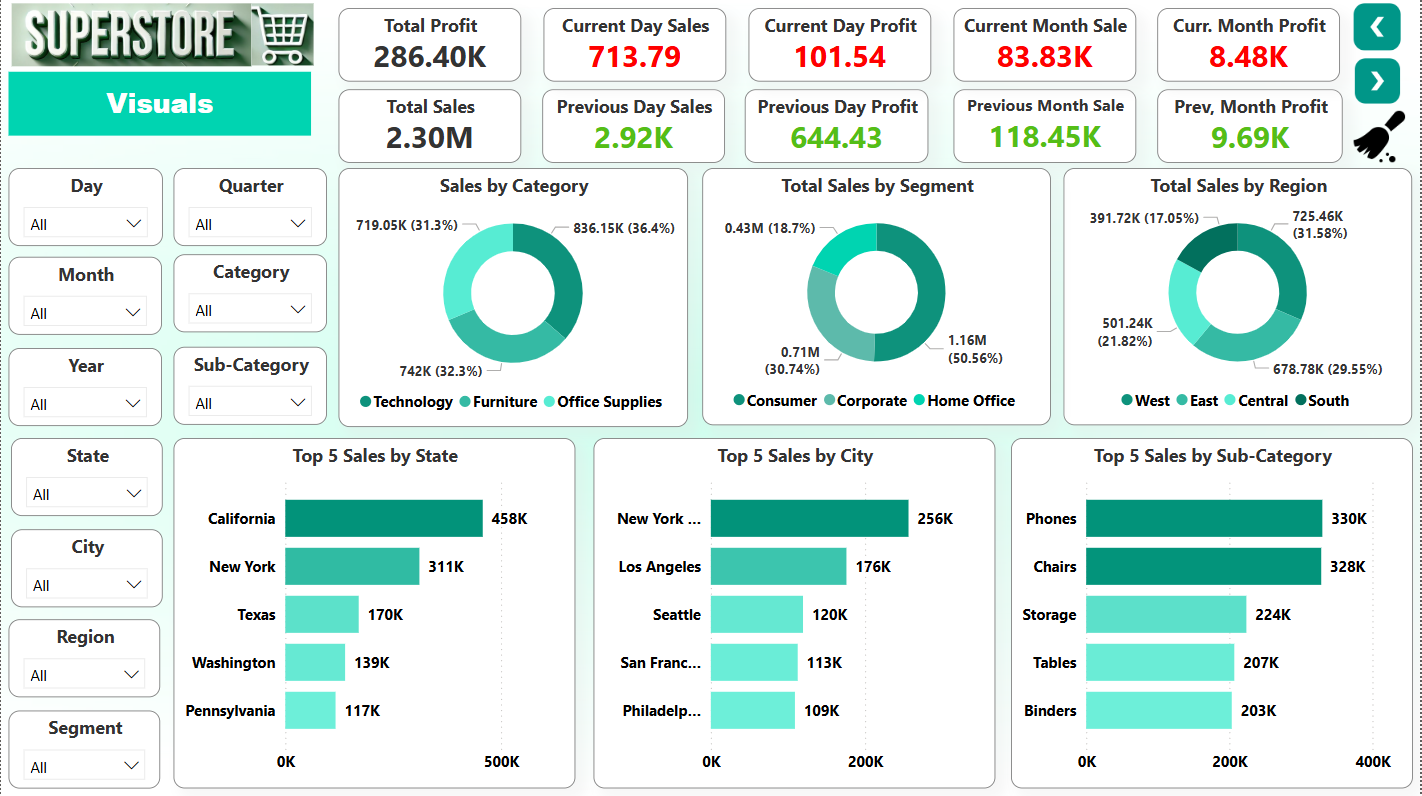

The dashboard page shown, as its layout file describes it:
{"tool":"powerbi","page":{"name":"Visuals","canvas":[1280,720],"ordinal":5},"visuals":[{"type":"textbox","box":[7.2,66.4,272.7,57.7],"z":0},{"type":"slicer","title":"Day","fields":{"Values":["Fiscal year Table.Date.Variation.Date Hierarchy.Day"]},"box":[7.2,152.9,139,70],"z":1000},{"type":"slicer","title":"Quarter","fields":{"Values":["Fiscal year Table.Quarter Number"]},"box":[155.8,152.9,138.5,70.7],"z":2000},{"type":"slicer","title":"Region","fields":{"Values":["Sample_ Superstore.Region"]},"box":[7.2,560.4,137.1,70.7],"z":3000},{"type":"slicer","title":"Segment","fields":{"Values":["Sample_ Superstore.Segment"]},"box":[7.2,642,137.1,70.7],"z":4000},{"type":"slicer","title":"City","fields":{"Values":["Sample_ Superstore.City"]},"box":[8.7,478.8,137.1,70.7],"z":5000},{"type":"slicer","title":"State","fields":{"Values":["Sample_ Superstore.State"]},"box":[8.7,397.1,137.1,70.7],"z":6000},{"type":"slicer","title":"Year","fields":{"Values":["Fiscal year Table.Fiscal Year"]},"box":[7.2,315.5,138.5,70.7],"z":7000},{"type":"slicer","title":"Month","fields":{"Values":["Fiscal year Table.Month Name"]},"box":[7.2,233.9,138.5,70.7],"z":8000},{"type":"slicer","title":"Sub-Category","fields":{"Values":["Sample_ Superstore.Sub-Category"]},"box":[155.8,314.5,138.5,70.7],"z":9000},{"type":"slicer","title":"Category","fields":{"Values":["Sample_ Superstore.Category"]},"box":[155.8,230.8,138.5,70.7],"z":10000},{"type":"card","title":"Total Profit","fields":{"Values":["Sample_ Superstore.Total Profit"]},"box":[304.4,8.7,164.5,66.4],"z":11000},{"type":"card","title":"Total Sales","fields":{"Values":["Sample_ Superstore.Total Sales"]},"box":[304.4,82.2,164.5,66.4],"z":12000},{"type":"card","title":"Previous Day Sales","fields":{"Values":["Sample_ Superstore.Previous Day Sales"]},"box":[487.7,82.2,164.5,66.4],"z":13000},{"type":"card","title":"Current Day Sales","fields":{"Values":["Sample_ Superstore.Current Date Sales"]},"box":[489.1,8.7,164.5,66.4],"z":14000},{"type":"card","title":"Previous Day Profit","fields":{"Values":["Sample_ Superstore.Previous Day Profit"]},"box":[670.9,82.2,165.9,66.4],"z":15000},{"type":"card","title":"Current Day Profit","fields":{"Values":["Sample_ Superstore.Current Day Profit"]},"box":[673.8,8.7,164.5,66.4],"z":16000},{"type":"card","title":"Previous Month Sale","fields":{"Values":["Sample_ Superstore.Previous Month Sales"]},"box":[858.4,82.2,164.5,66.4],"z":17000},{"type":"card","title":"Current Month Sale","fields":{"Values":["Sample_ Superstore.Current Month Sales (Selected)"]},"box":[858.4,8.7,164.5,66.4],"z":18000},{"type":"image","box":[0,0,235.2,66.4],"z":19000,"group":"g1"},{"type":"card","title":"Prev, Month Profit","fields":{"Values":["Sample_ Superstore.Previous Month Profit"]},"box":[1043.1,82.2,167.4,66.4],"z":19000},{"type":"card","title":"Curr. Month Profit","fields":{"Values":["Sample_ Superstore.Current Month Profit"]},"box":[1043.1,8.7,164.5,66.4],"z":20000},{"type":"image","box":[1207.6,49.1,67.8,50.5],"z":21000},{"type":"image","box":[1211.9,0,59.2,51.9],"z":22000},{"type":"donutChart","title":" Sales by Category","fields":{"Category":["Sample_ Superstore.Category"],"Y":["Sample_ Superstore.Total Sales"]},"box":[304.4,152.9,315,233.7],"z":23000},{"type":"image","box":[218.9,0,69.7,66],"z":24000,"group":"g1"},{"type":"donutChart","fields":{"Y":["Sample_ Superstore.Total Sales"],"Category":["Sample_ Superstore.Region"]},"box":[958,152.9,314.5,232.3],"z":24000},{"type":"donutChart","fields":{"Y":["Sample_ Superstore.Total Sales"],"Category":["Sample_ Superstore.Segment"]},"box":[631.9,152.9,314.5,232.3],"z":25000},{"type":"barChart","title":"Top 5 Sales by State","fields":{"Category":["Sample_ Superstore.State"],"Y":["Sample_ Superstore.Total Sales"]},"box":[155.8,396.8,362,316],"z":26000},{"type":"barChart","title":"Top 5 Sales by City","fields":{"Y":["Sample_ Superstore.Total Sales"],"Category":["Sample_ Superstore.City"]},"box":[533.8,396.8,362.1,316],"z":27000},{"type":"barChart","title":"Top 5 Sales by Sub-Category","fields":{"Y":["Sample_ Superstore.Total Sales"],"Category":["Sample_ Superstore.Sub-Category"]},"box":[910.4,396.8,362.1,316],"z":28000},{"type":"image","box":[1211.9,96.7,62,56.3],"z":29000},{"type":"group","id":"g1","title":"Group 1","box":[0,0,288.6,66.4],"z":30000}]}

Visuals, with their boxes in screenshot pixels (x1, y1, x2, y2), scaled from the page's 1280x720 canvas onto the 1422x796 screenshot:
textbox: region(8, 73, 311, 137)
"Day" slicer: region(8, 169, 162, 246)
"Quarter" slicer: region(173, 169, 327, 247)
"Region" slicer: region(8, 620, 160, 698)
"Segment" slicer: region(8, 710, 160, 788)
"City" slicer: region(10, 529, 162, 608)
"State" slicer: region(10, 439, 162, 517)
"Year" slicer: region(8, 349, 162, 427)
"Month" slicer: region(8, 259, 162, 337)
"Sub-Category" slicer: region(173, 348, 327, 426)
"Category" slicer: region(173, 255, 327, 333)
"Total Profit" card: region(338, 10, 521, 83)
"Total Sales" card: region(338, 91, 521, 164)
"Previous Day Sales" card: region(542, 91, 725, 164)
"Current Day Sales" card: region(543, 10, 726, 83)
"Previous Day Profit" card: region(745, 91, 930, 164)
"Current Day Profit" card: region(749, 10, 931, 83)
"Previous Month Sale" card: region(954, 91, 1136, 164)
"Current Month Sale" card: region(954, 10, 1136, 83)
image: region(0, 0, 261, 73)
"Prev, Month Profit" card: region(1159, 91, 1345, 164)
"Curr. Month Profit" card: region(1159, 10, 1342, 83)
image: region(1342, 54, 1417, 110)
image: region(1346, 0, 1412, 57)
" Sales by Category" donutChart: region(338, 169, 688, 427)
image: region(243, 0, 321, 73)
donutChart - Sample_ Superstore.Total Sales x Sample_ Superstore.Region: region(1064, 169, 1414, 426)
donutChart - Sample_ Superstore.Total Sales x Sample_ Superstore.Segment: region(702, 169, 1051, 426)
"Top 5 Sales by State" barChart: region(173, 439, 575, 788)
"Top 5 Sales by City" barChart: region(593, 439, 995, 788)
"Top 5 Sales by Sub-Category" barChart: region(1011, 439, 1414, 788)
image: region(1346, 107, 1415, 169)
"Group 1" group: region(0, 0, 321, 73)
